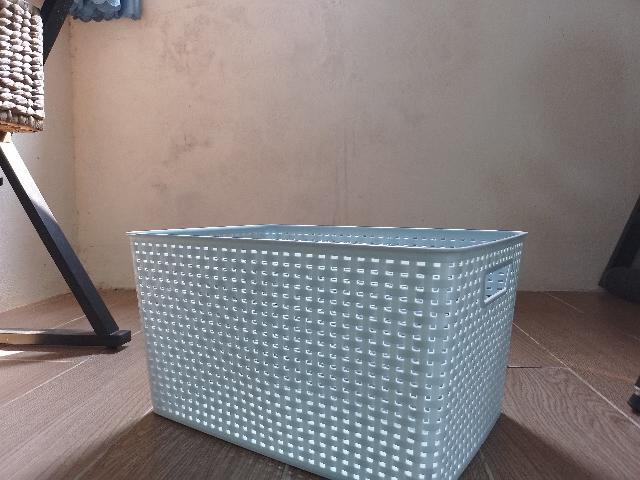cart: (126, 224, 527, 480)
